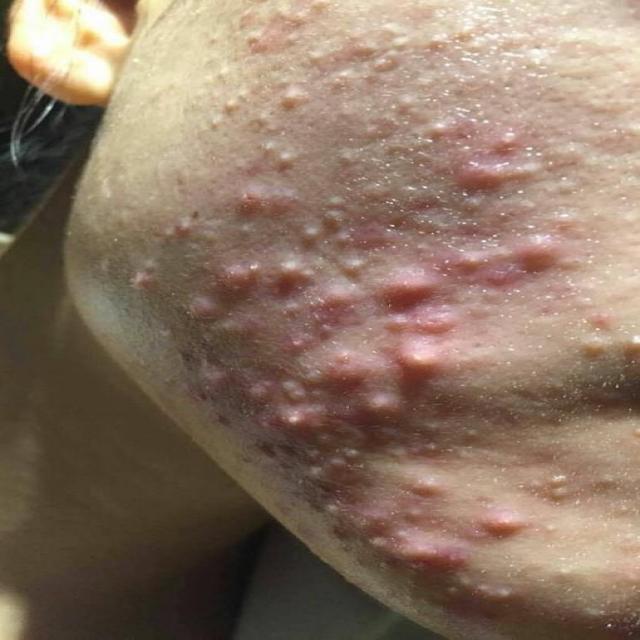Acne: (216, 108, 459, 264), (313, 441, 542, 601), (316, 262, 456, 429), (210, 12, 426, 112), (456, 138, 570, 298), (172, 328, 306, 460), (159, 256, 310, 324), (460, 304, 640, 358), (542, 458, 635, 516), (132, 213, 204, 243), (586, 598, 620, 636), (126, 264, 156, 296)
